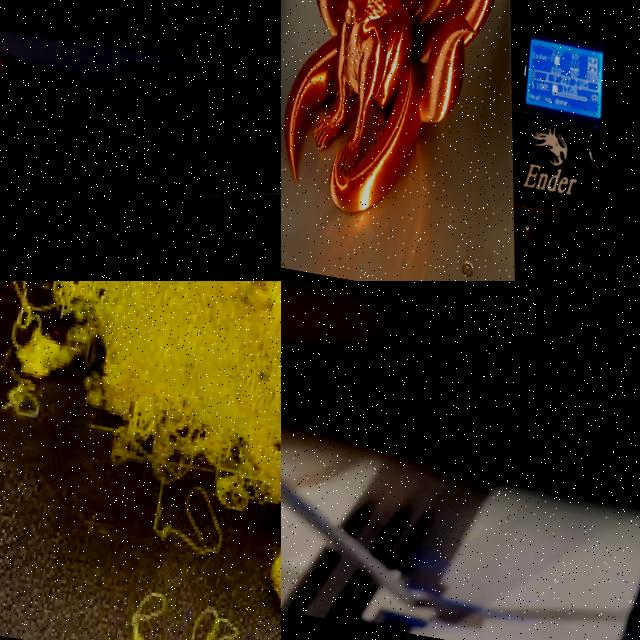spaghetti: (8, 281, 281, 540), (126, 586, 240, 640)
